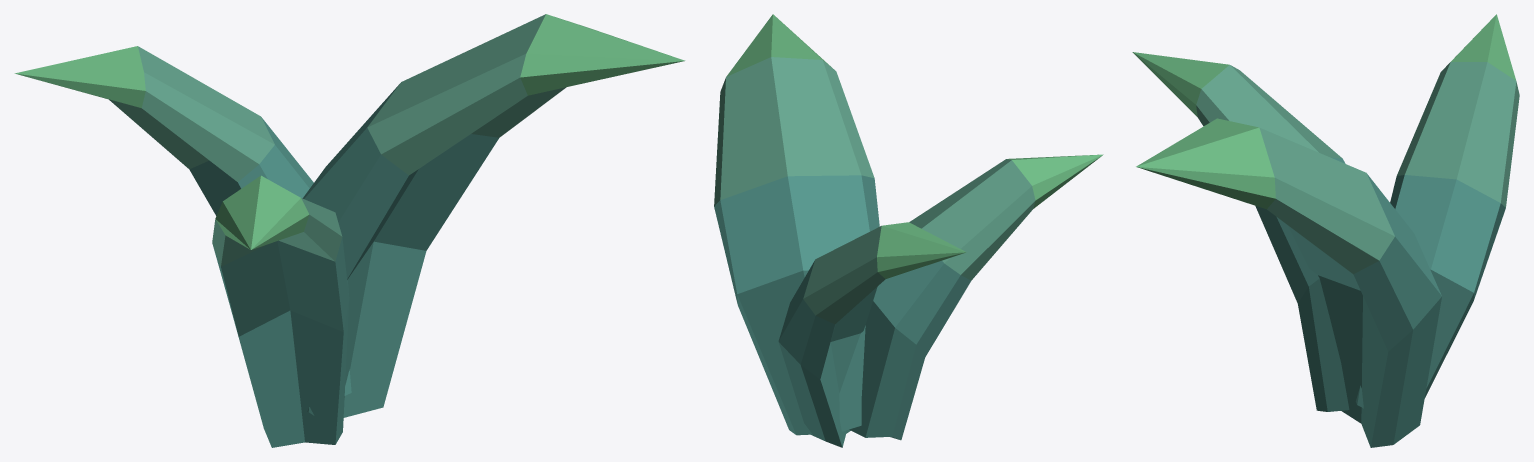
File: Plant_3.fbx
3 renders of one model, left to right at view 1: azimuth 30°, elevation 25°; view 2: azimuth 150°, elevation 25°; view 3: azimuth 270°, elevation 25°, orthographic. The views are drawn at different scales.
Visible parts, largest first — view 1: Plant_3; view 2: Plant_3; view 3: Plant_3.
Part boxes in pixels (x1,y1,x2,y2): Plant_3: (14, 14, 685, 447); Plant_3: (714, 14, 1103, 447); Plant_3: (1132, 14, 1519, 447).
Size of the model in its own units: 0.7796 by 0.6694 by 0.6471.
